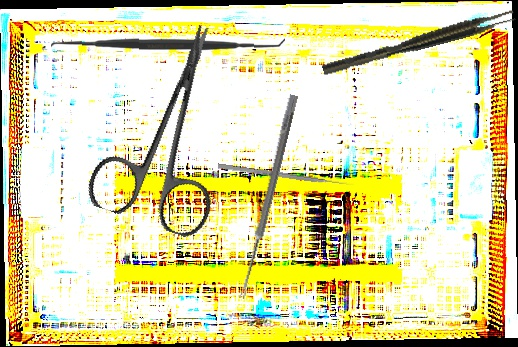Iris Scissors: (82, 7, 267, 243)
Pusher: (217, 163, 355, 188)
Spatula Surgical: (50, 28, 286, 60)
Surgical Spoon: (237, 93, 299, 301)
Tissue Forceps: (320, 7, 517, 76)
